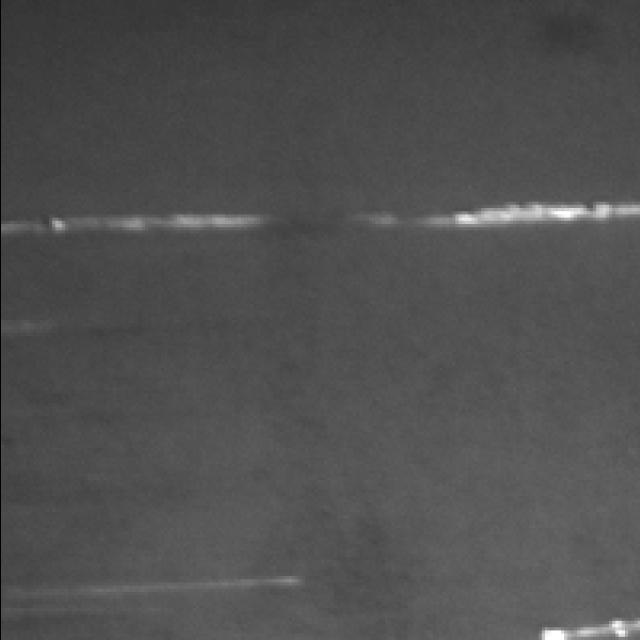scratches: (337, 192, 640, 237), (0, 198, 277, 232), (0, 574, 305, 596), (535, 618, 640, 640)
